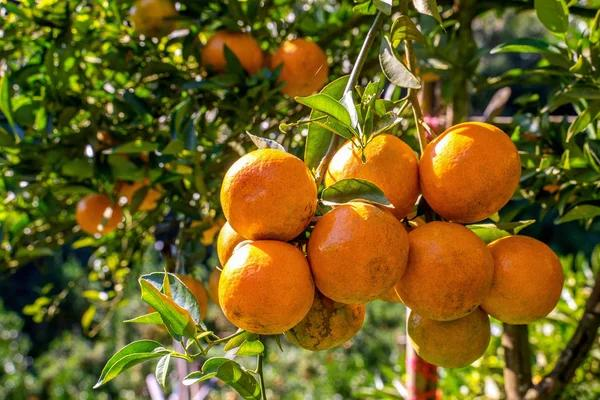orange: (298, 199, 408, 317), (419, 116, 524, 221), (216, 237, 316, 341), (406, 220, 497, 328), (218, 144, 317, 241), (495, 233, 566, 326), (270, 37, 328, 98)
